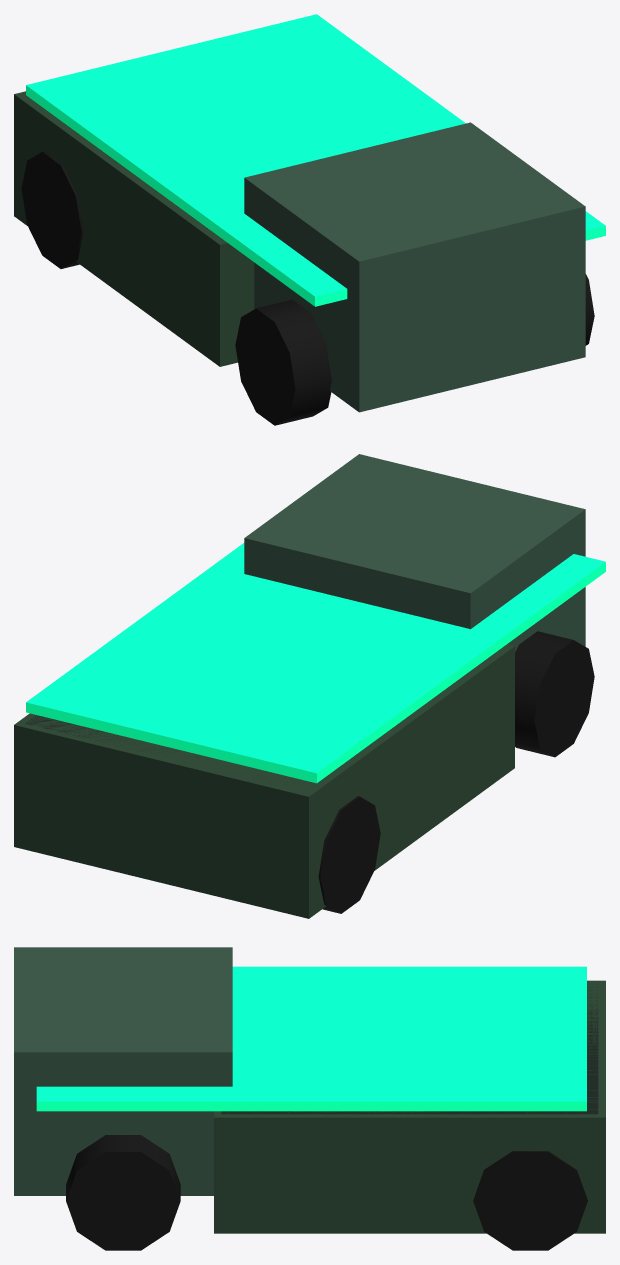
File: threshold_child_hauler_lod1.glb
The picture shows the model from 3 angles, top to bottom: view 1: azimuth 30°, elevation 25°; view 2: azimuth 150°, elevation 25°; view 3: azimuth 270°, elevation 25°; orthographic projection. The views are drawn at different scales.
Parts seen in each view (by area): view 1: Threshold Hauler_LOD1; view 2: Threshold Hauler_LOD1; view 3: Threshold Hauler_LOD1.
Part boxes in pixels (bbox=[...]): Threshold Hauler_LOD1: bbox=[14, 14, 605, 425]; Threshold Hauler_LOD1: bbox=[14, 454, 605, 918]; Threshold Hauler_LOD1: bbox=[14, 947, 605, 1250].
Bounding box in the file's own units: 2.18 × 1.33 × 3.92.
